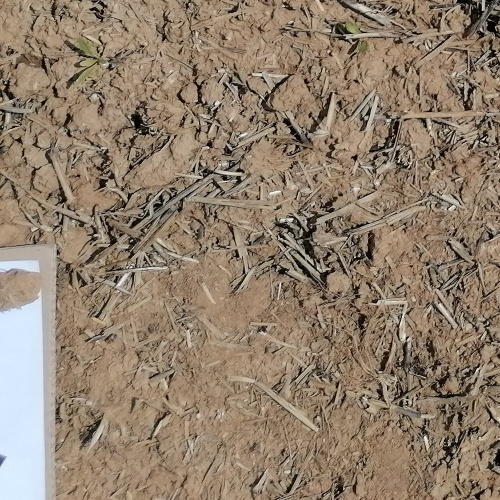beet: (75, 32, 106, 85), (340, 18, 372, 56)
